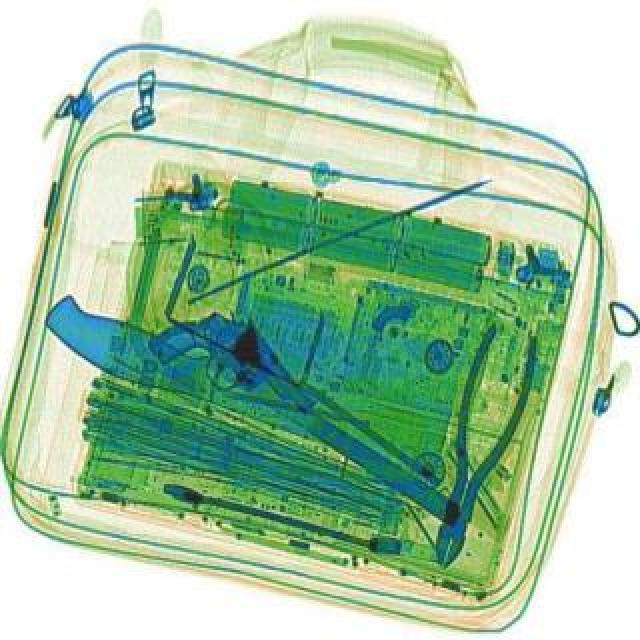gun: (140, 286, 326, 464)
knife: (34, 288, 336, 458)
wrench: (414, 320, 546, 574)
